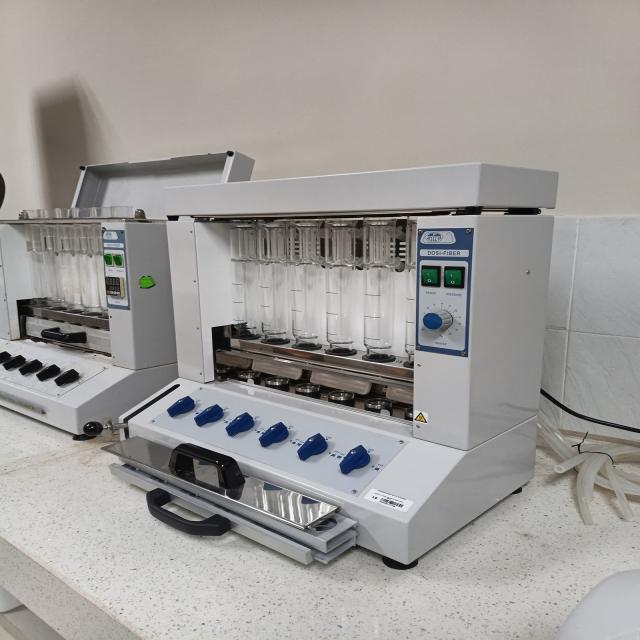Analizador de Fibra Cruda y Fracciones: (0, 135, 557, 568), (80, 162, 557, 568)
